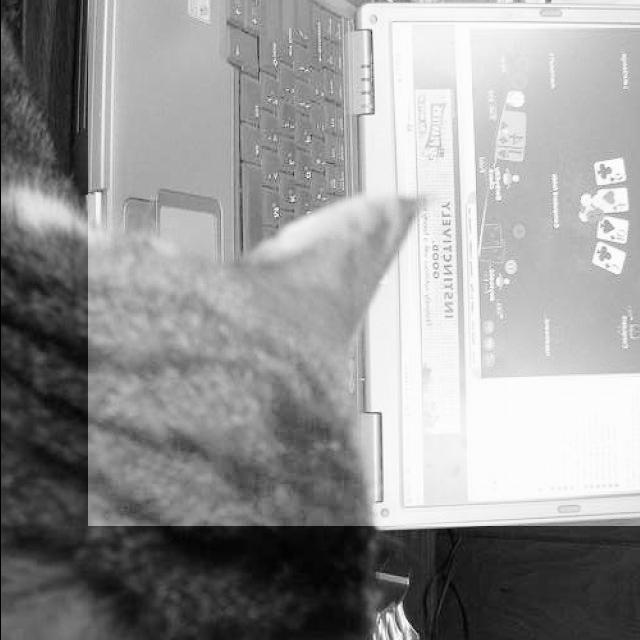-keyboard-: (88, 0, 640, 526)
